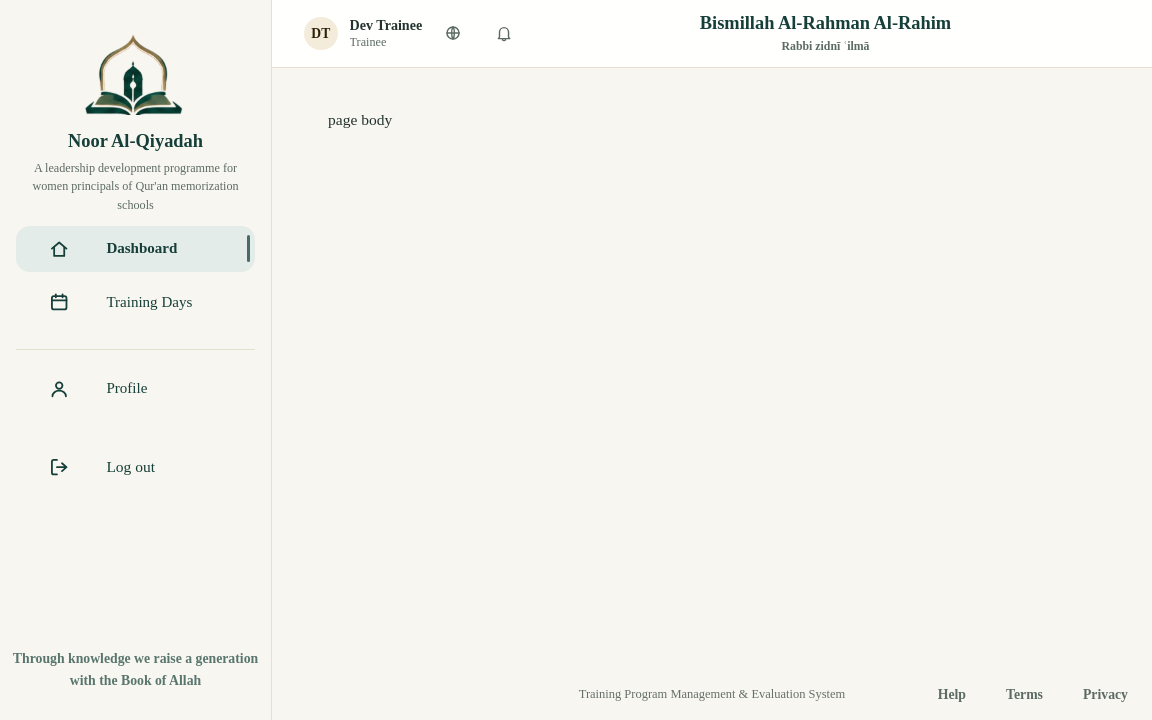
Test case: AppShell focus management › closes the notifications popover on outside click and on Escape (focus back to the bell)
Click the button named "Notifications" at {"x": 504, "y": 34}, box 485,14 -> 523,53
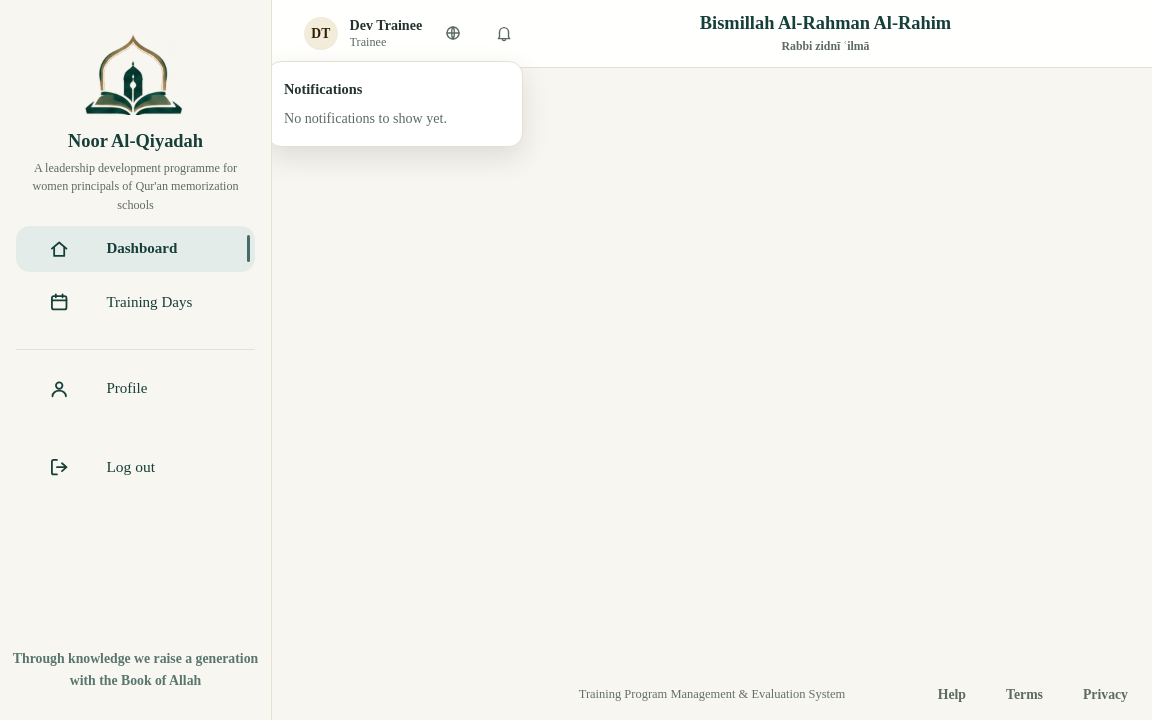
Expected: the dialog "Notifications" is shown, 267,61 -> 523,147
Press the mouse on the element that starts with "Skip to main content" at {"x": 576, "y": 360}, box 0,0 -> 1151,719
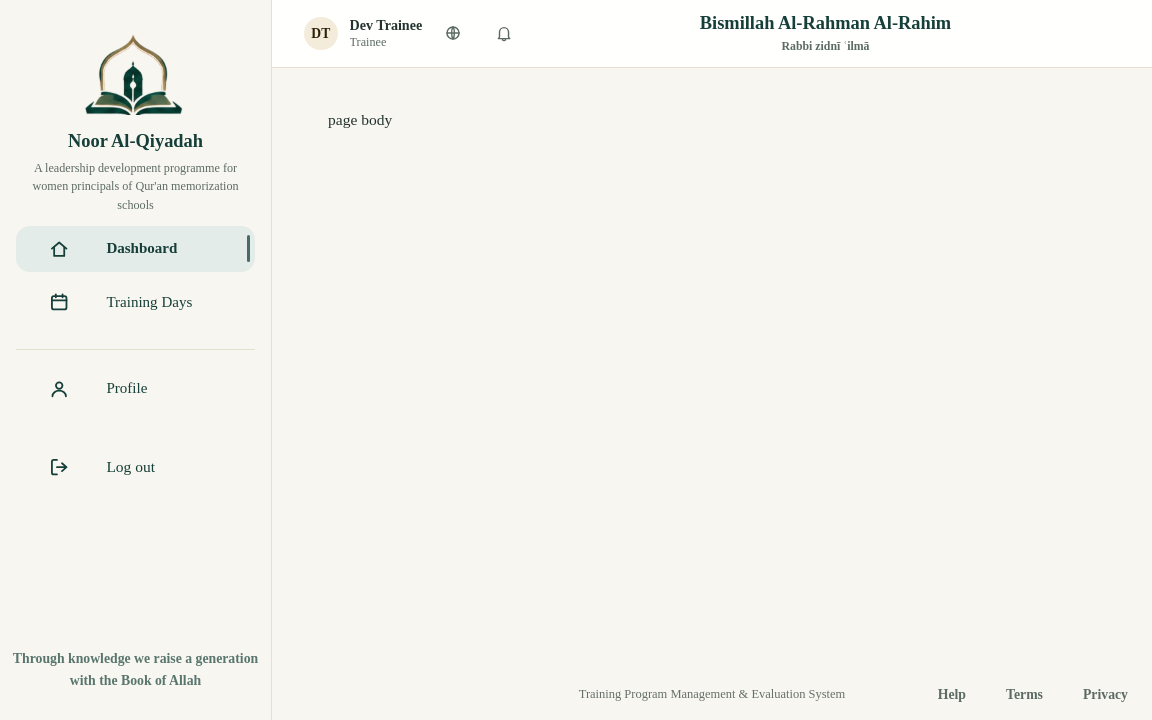
Expected: the dialog is gone
Click the button named "Notifications" at {"x": 504, "y": 34}, box 485,14 -> 523,53
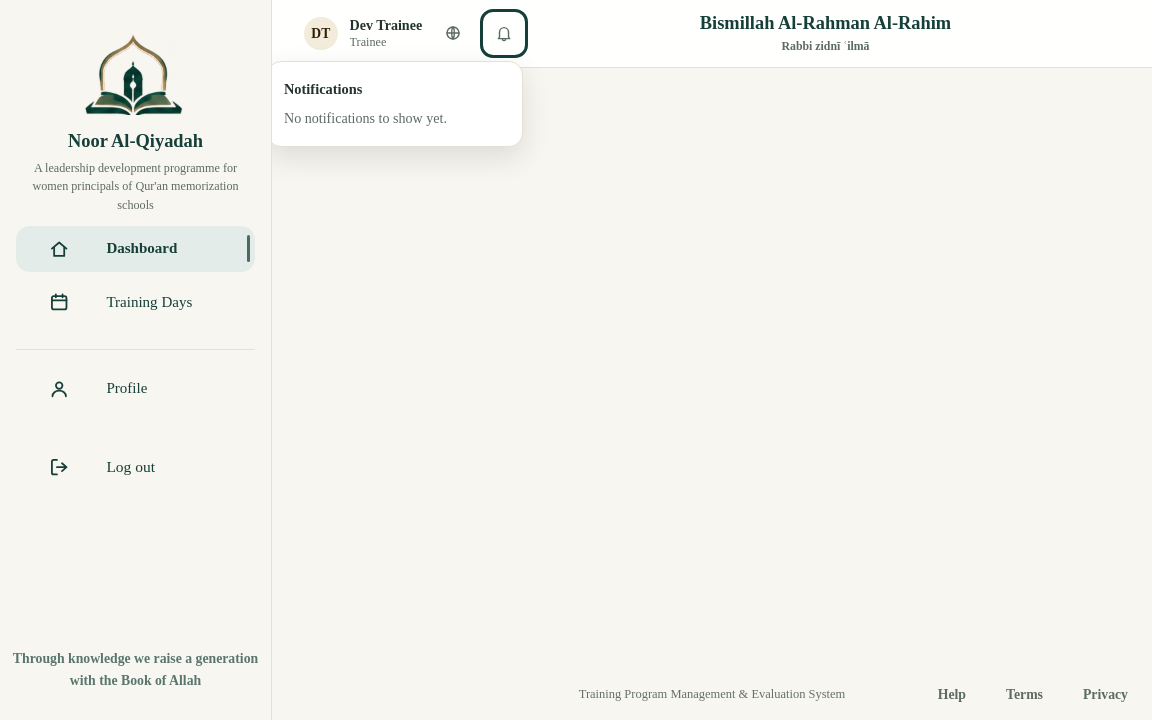
Press Escape
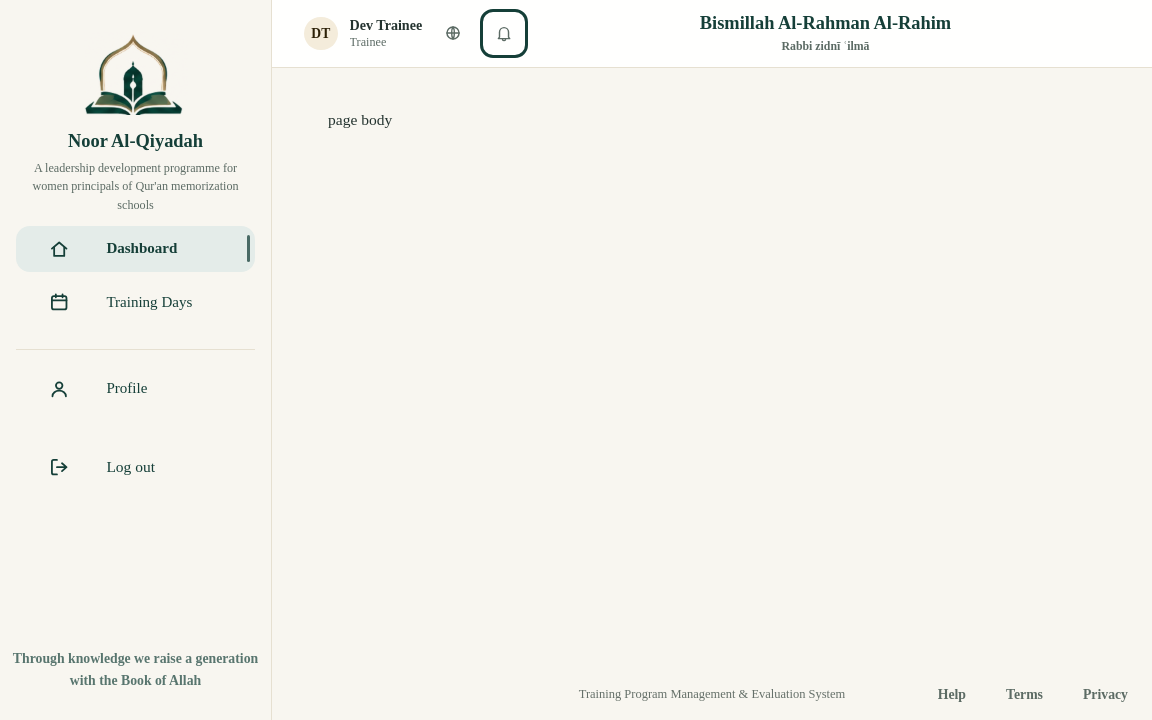
Expected: the dialog is gone
